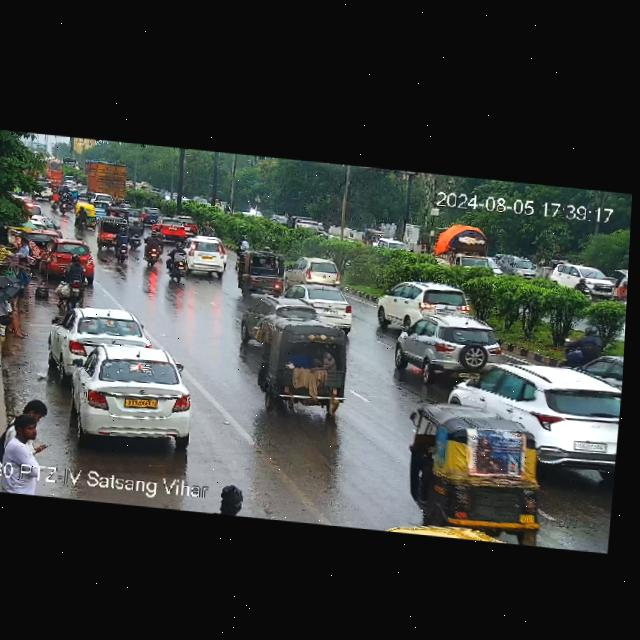car: (397, 396, 556, 543), (435, 354, 622, 471), (66, 340, 199, 448), (242, 314, 354, 422), (386, 307, 505, 387), (50, 303, 147, 373), (373, 276, 477, 333), (275, 282, 355, 331), (36, 233, 100, 284), (546, 260, 619, 300), (566, 346, 622, 398), (281, 254, 344, 295), (239, 251, 289, 297), (178, 235, 230, 279), (496, 252, 542, 282), (96, 215, 124, 245), (74, 199, 98, 230), (158, 218, 188, 240), (139, 203, 164, 226), (175, 216, 200, 235), (110, 207, 131, 221)
motorcycle: (57, 249, 93, 313), (556, 326, 607, 369), (163, 248, 189, 284), (141, 232, 164, 267), (112, 228, 136, 259), (126, 221, 143, 250), (75, 206, 88, 236), (235, 232, 249, 259), (47, 189, 62, 208), (58, 192, 69, 217)
person: (0, 395, 55, 466), (4, 257, 37, 315), (0, 287, 34, 339)
truck: (80, 155, 130, 201)
